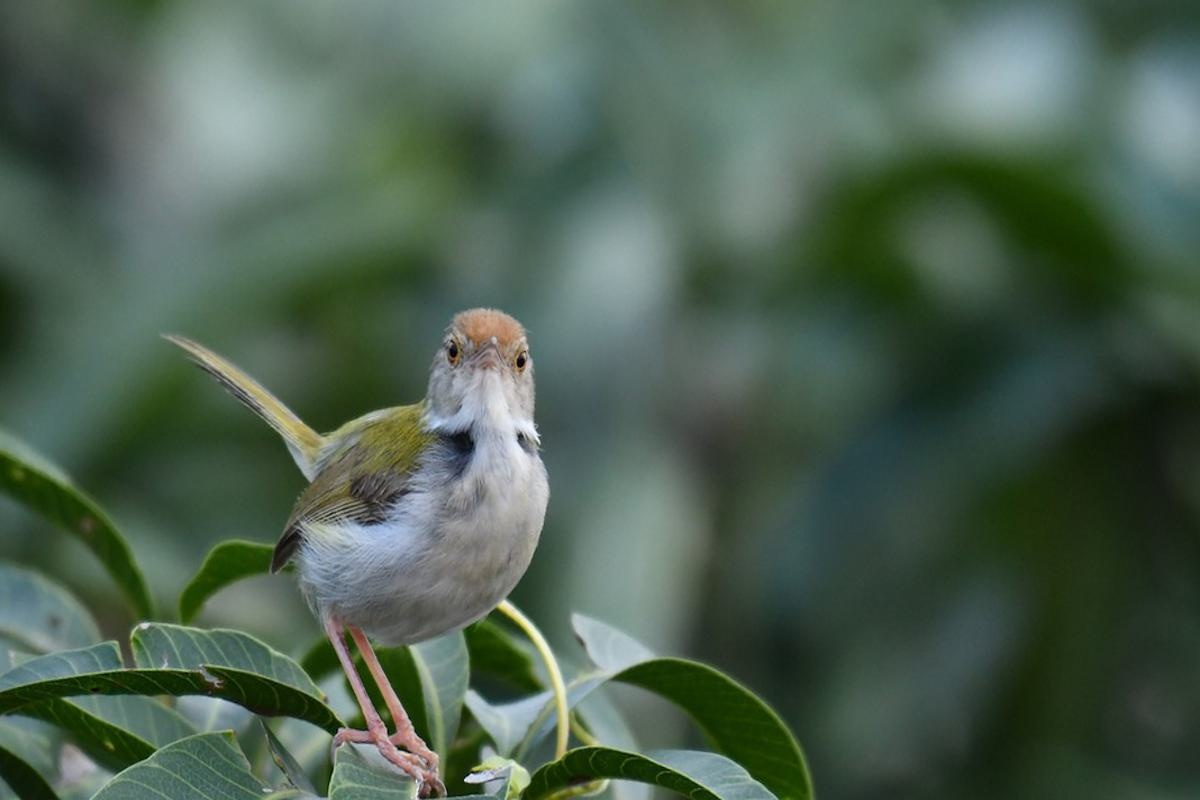tailorbird: (275, 278, 611, 698)
